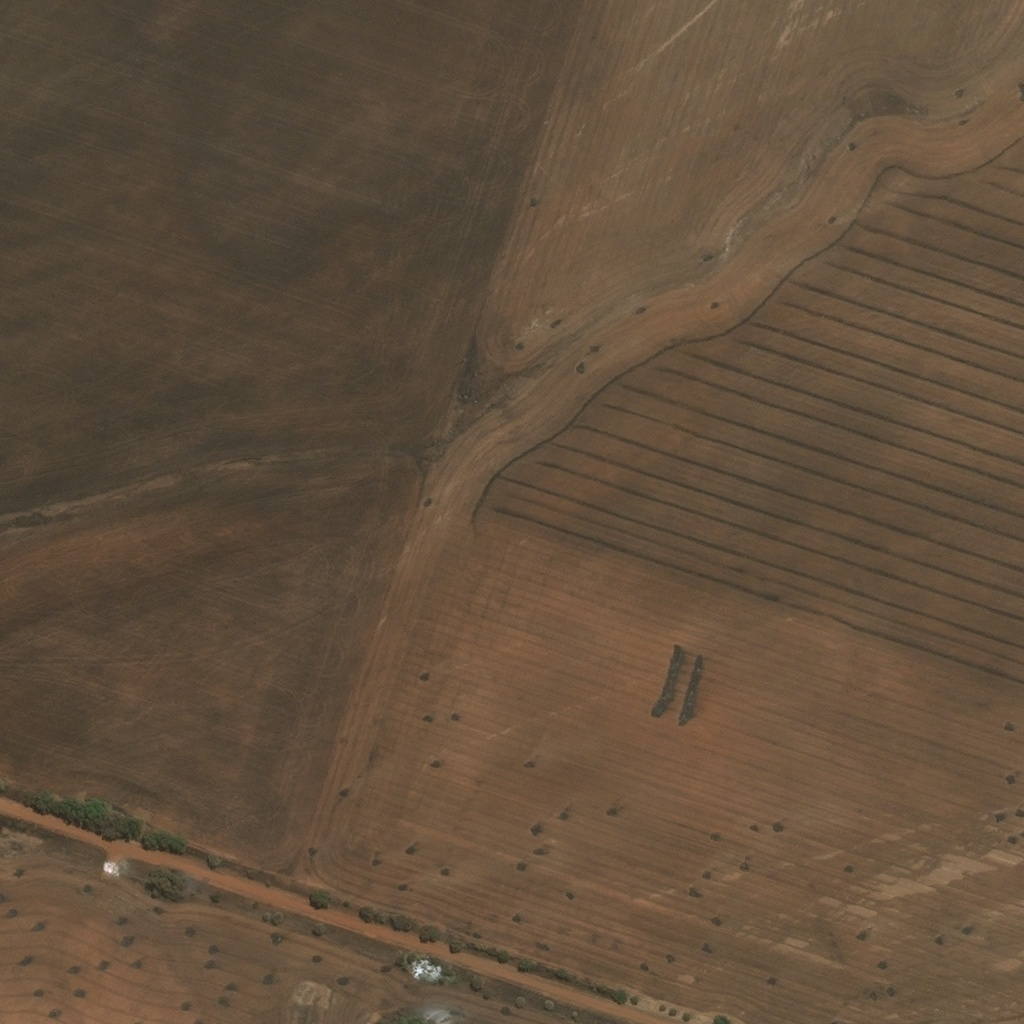4 un-classified: (707, 523, 718, 534)
